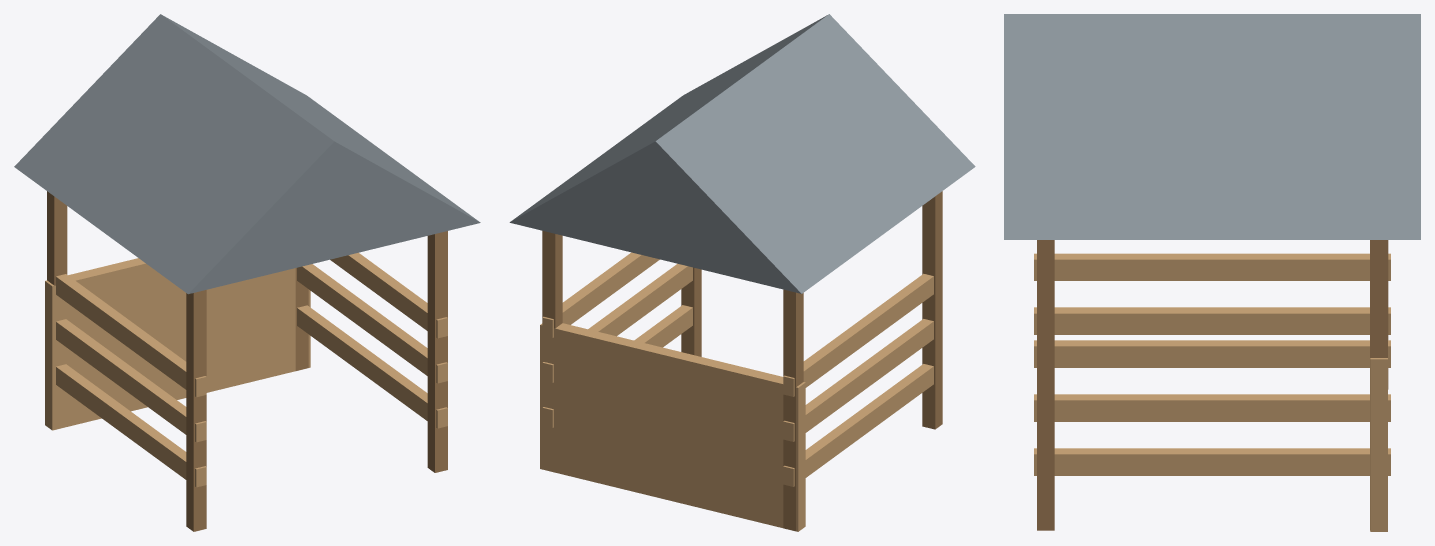
File: stable-stall.glb
The picture shows the model from 3 angles, left to right: view 1: azimuth 30°, elevation 25°; view 2: azimuth 150°, elevation 25°; view 3: azimuth 270°, elevation 25°; orthographic projection. The views are drawn at different scales.
Visible parts, largest first — view 1: stable-stall; view 2: stable-stall; view 3: stable-stall.
Part boxes in pixels (bbox=[...]): stable-stall: bbox=[14, 14, 480, 531]; stable-stall: bbox=[509, 14, 975, 531]; stable-stall: bbox=[1004, 14, 1420, 531].
Bounding box in the file's own units: 3.4 × 4.1 × 3.5.
